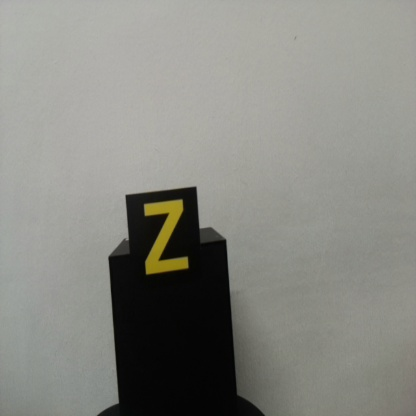id_15: (126, 196, 199, 287)
